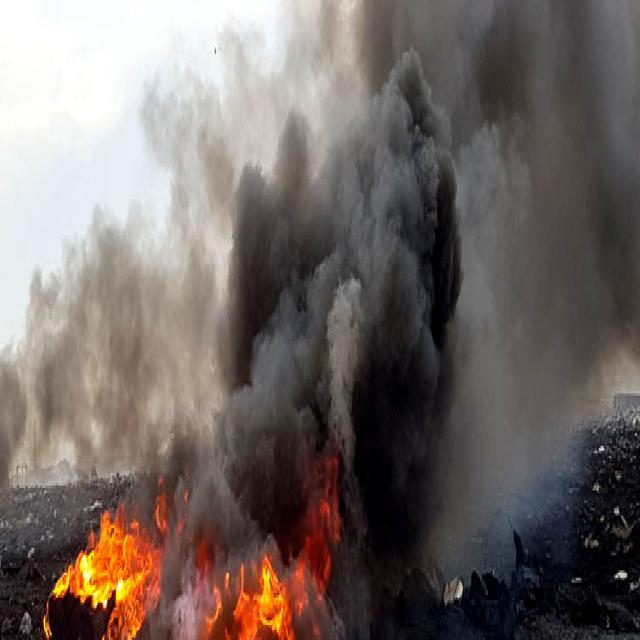Fire: (56, 522, 160, 638), (214, 534, 304, 640)
Smoke: (30, 16, 616, 554)
